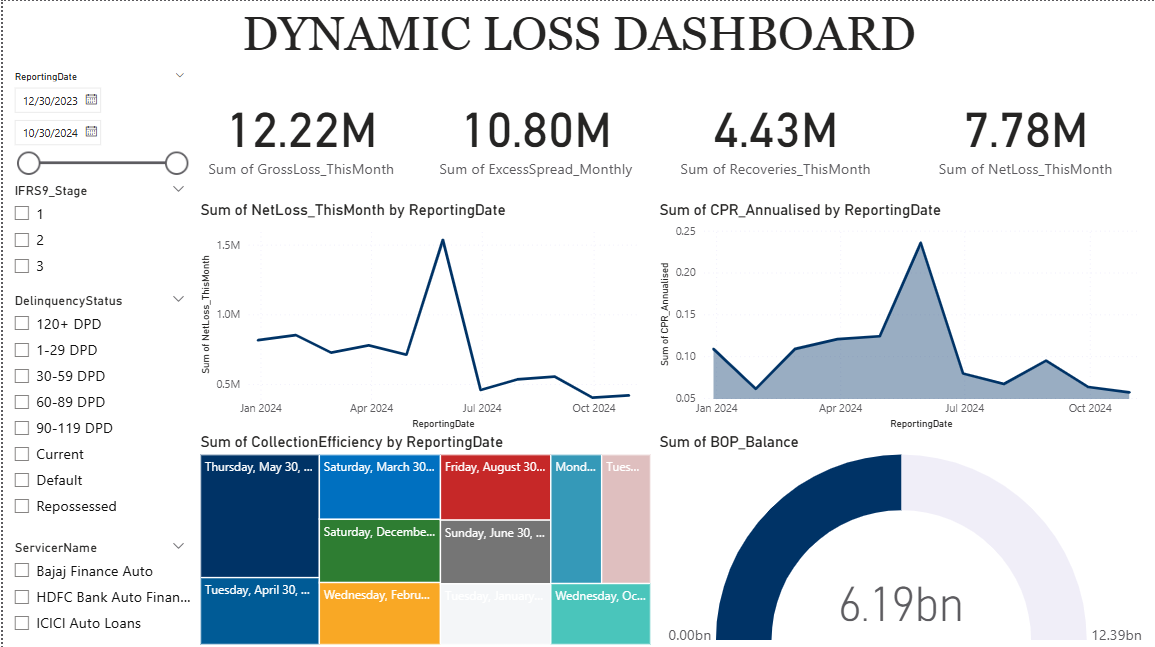

Layout of this report page (visuals, bound fields, positions):
{"tool":"powerbi","page":{"name":"DYNAMIC LOSS DASHBOARD","canvas":[1280,720],"ordinal":10},"visuals":[{"type":"slicer","fields":{"Values":["dynamic_loss_monthly.ReportingDate"]},"box":[0,72,214,126],"z":0},{"type":"slicer","fields":{"Values":["auto_loan_securitisation_data.IFRS9_Stage"]},"box":[0,198,214,122],"z":1000},{"type":"slicer","fields":{"Values":["auto_loan_securitisation_data.DelinquencyStatus"]},"box":[0,320,214,274],"z":2000},{"type":"slicer","fields":{"Values":["auto_loan_securitisation_data.ServicerName"]},"box":[0,594,214,126],"z":3000},{"type":"textbox","box":[0,0,1280,72],"z":4000},{"type":"card","fields":{"Values":["Sum(dynamic_loss_monthly.GrossLoss_ThisMonth)"]},"box":[214,72,234,150],"z":5000},{"type":"card","fields":{"Values":["Sum(dynamic_loss_monthly.ExcessSpread_Monthly)"]},"box":[460,72,264,150],"z":6000},{"type":"card","fields":{"Values":["Sum(dynamic_loss_monthly.Recoveries_ThisMonth)"]},"box":[724,72,268,150],"z":7000},{"type":"card","fields":{"Values":["Sum(dynamic_loss_monthly.NetLoss_ThisMonth)"]},"box":[992,72,288,150],"z":8000},{"type":"lineChart","fields":{"Category":["dynamic_loss_monthly.ReportingDate"],"Y":["Sum(dynamic_loss_monthly.NetLoss_ThisMonth)"]},"box":[214,222,510,258],"z":9000},{"type":"treemap","fields":{"Group":["dynamic_loss_monthly.ReportingDate"],"Values":["Sum(dynamic_loss_monthly.CollectionEfficiency)"]},"box":[214,480,510,240],"z":10000},{"type":"areaChart","fields":{"Category":["dynamic_loss_monthly.ReportingDate"],"Y":["Sum(dynamic_loss_monthly.CPR_Annualised)"]},"box":[724,222,556,258],"z":11000},{"type":"gauge","fields":{"Y":["Sum(dynamic_loss_monthly.BOP_Balance)"]},"box":[724,480,556,240],"z":12000}]}

Visuals, with their boxes in screenshot pixels (x1, y1, x2, y2), scaled from the page's 1280x720 canvas onto the 1155x647 screenshot:
slicer - dynamic_loss_monthly.ReportingDate: 0,65,193,178
slicer - auto_loan_securitisation_data.IFRS9_Stage: 0,178,193,288
slicer - auto_loan_securitisation_data.DelinquencyStatus: 0,288,193,534
slicer - auto_loan_securitisation_data.ServicerName: 0,534,193,646
textbox: 0,0,1154,65
card - Sum(dynamic_loss_monthly.GrossLoss_ThisMonth): 193,65,404,199
card - Sum(dynamic_loss_monthly.ExcessSpread_Monthly): 415,65,653,199
card - Sum(dynamic_loss_monthly.Recoveries_ThisMonth): 653,65,895,199
card - Sum(dynamic_loss_monthly.NetLoss_ThisMonth): 895,65,1154,199
lineChart - dynamic_loss_monthly.ReportingDate x Sum(dynamic_loss_monthly.NetLoss_ThisMonth): 193,199,653,431
treemap - dynamic_loss_monthly.ReportingDate x Sum(dynamic_loss_monthly.CollectionEfficiency): 193,431,653,646
areaChart - dynamic_loss_monthly.ReportingDate x Sum(dynamic_loss_monthly.CPR_Annualised): 653,199,1154,431
gauge - Sum(dynamic_loss_monthly.BOP_Balance): 653,431,1154,646
